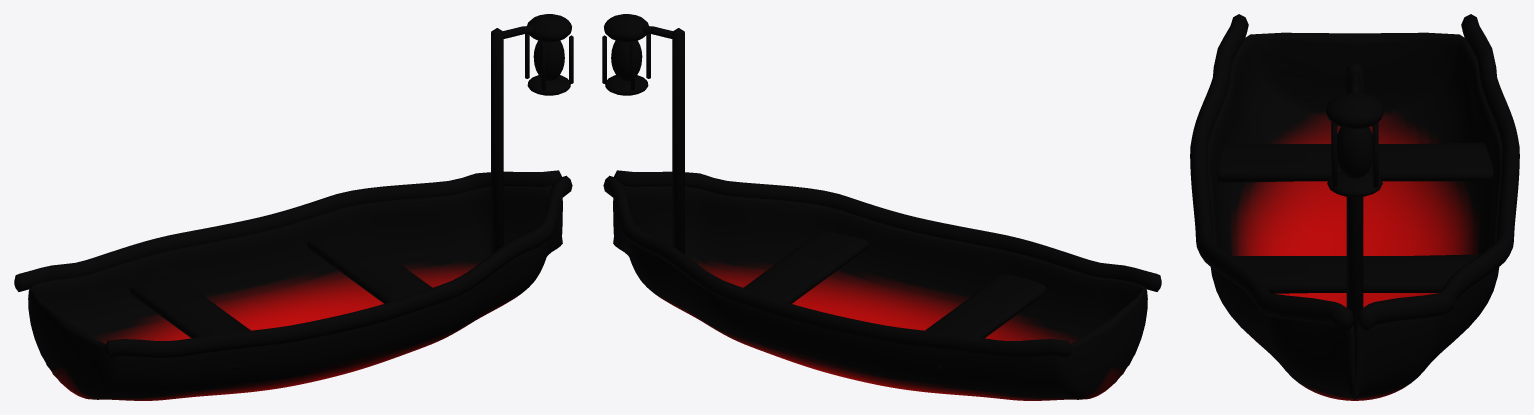
Rendered from boat.glb.
3 renders of one model, left to right at view 1: azimuth 30°, elevation 25°; view 2: azimuth 150°, elevation 25°; view 3: azimuth 270°, elevation 25°, orthographic. The views are drawn at different scales.
Parts seen in each view (by area): view 1: Boat, Lantern, LanternGlow; view 2: Boat, Lantern, LanternGlow; view 3: Boat, Lantern, LanternGlow.
Boxes of the visible parts, box(x1,y1,x2,y2) form: Boat: box(14, 25, 572, 400); Lantern: box(525, 14, 573, 95); LanternGlow: box(533, 40, 564, 80); Boat: box(603, 25, 1161, 400); Lantern: box(602, 14, 650, 95); LanternGlow: box(611, 40, 642, 80); Boat: box(1190, 14, 1519, 400); Lantern: box(1325, 93, 1384, 197); LanternGlow: box(1337, 127, 1372, 178).
Size of the model in its own units: 2.55 by 1.38 by 1.12.
